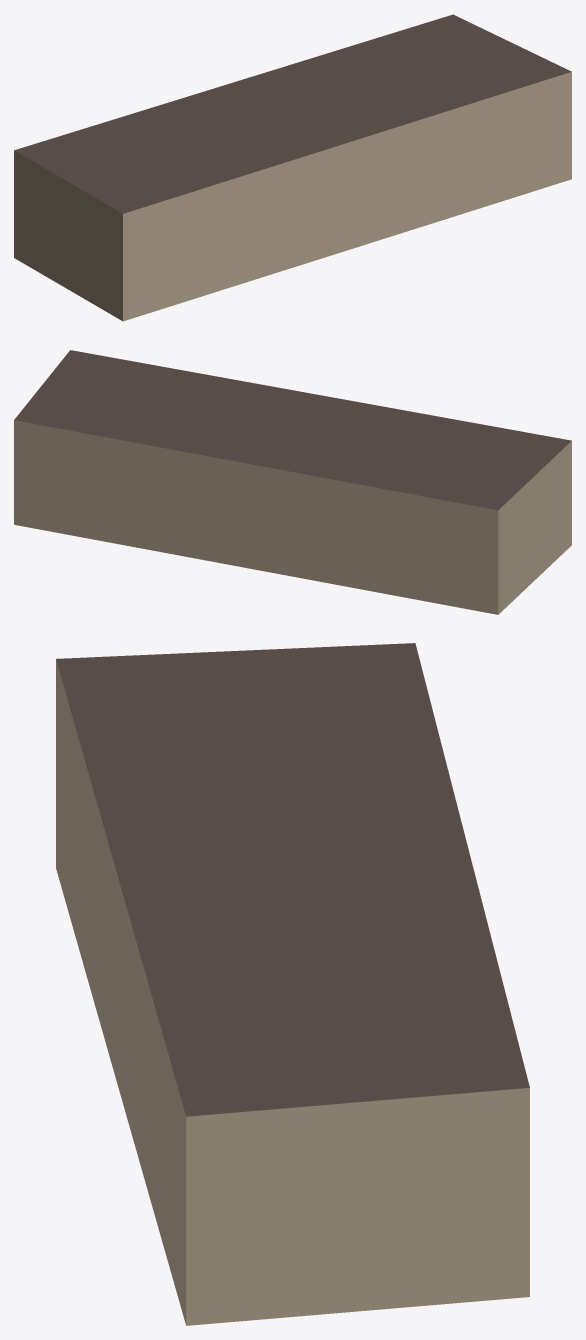
The picture shows the model from 3 angles, top to bottom: view 1: azimuth 30°, elevation 25°; view 2: azimuth 150°, elevation 25°; view 3: azimuth 270°, elevation 25°; orthographic projection. The views are drawn at different scales.
Visible parts, largest first — view 1: HP-w1512914146; view 2: HP-w1512914146; view 3: HP-w1512914146.
Boxes of the visible parts, x1=… form: HP-w1512914146: x1=14, y1=14, x2=571, y2=321; HP-w1512914146: x1=14, y1=350, x2=571, y2=614; HP-w1512914146: x1=56, y1=643, x2=529, y2=1325.
Bounding box in the file's own units: 43.7 × 9 × 18.48.
